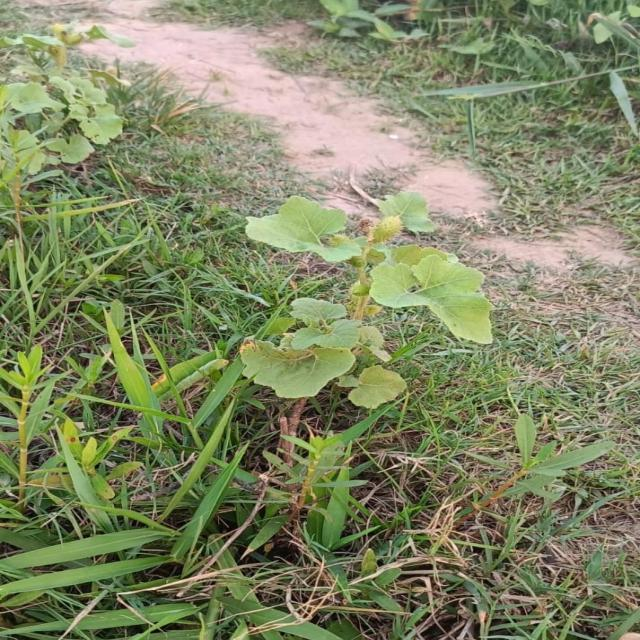weed: (242, 192, 492, 398), (351, 366, 403, 408)
